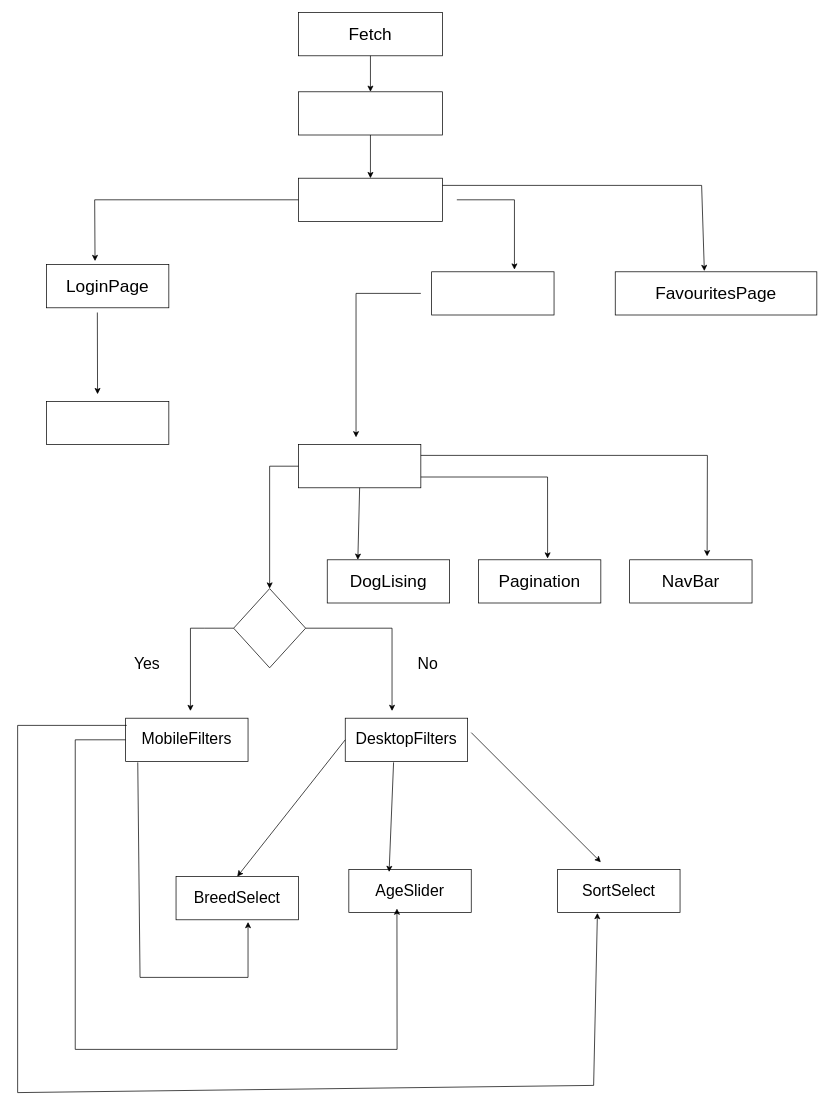
This 829x1111 diagram has some shape labels left out. Here are the shapes that lost their labels. From the top down, the box of each, then its label:
(298, 91, 442, 135): Main
(298, 177, 442, 221): React Router
(431, 271, 554, 315): HomePage
(46, 401, 169, 445): LoginForm
(298, 444, 421, 488): Layout
(233, 588, 306, 668): isMobile?
